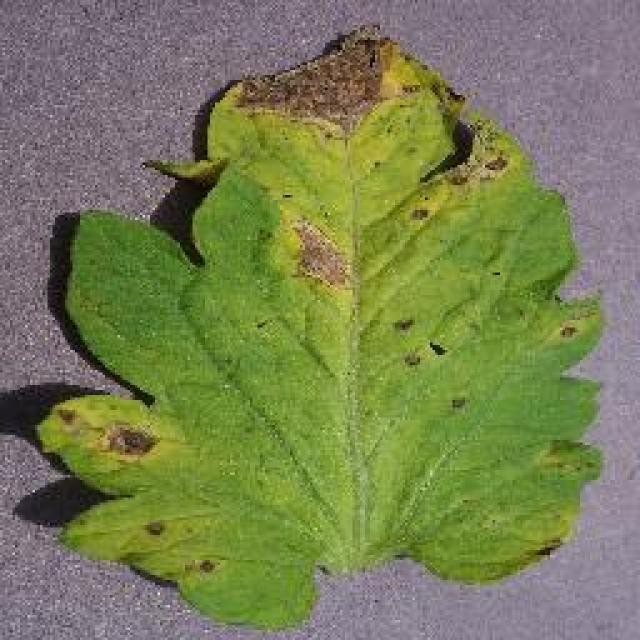Tomato___Septoria_leaf_spot: (38, 28, 600, 622)
